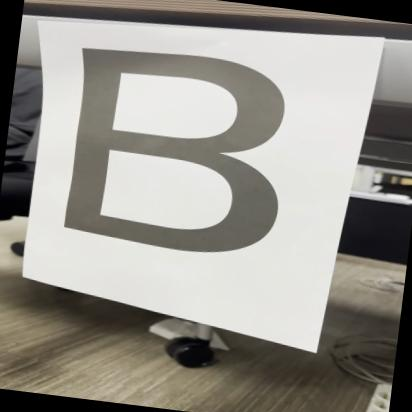seat: (31, 29, 315, 294)
